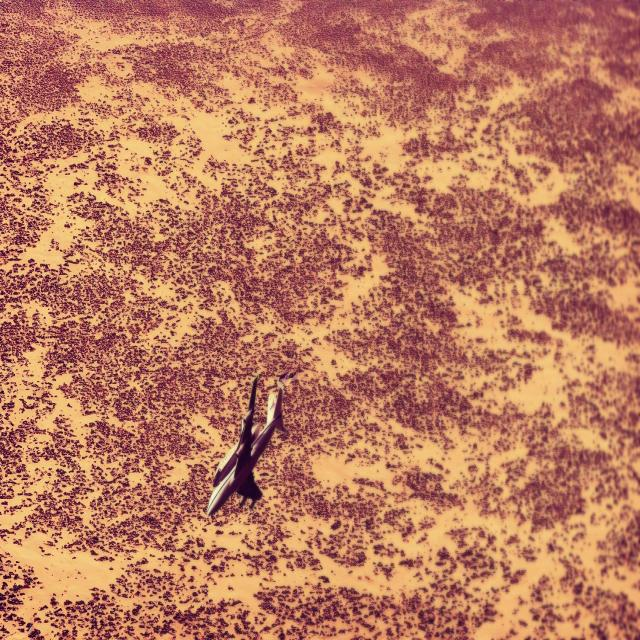airplane: (206, 373, 284, 518)
